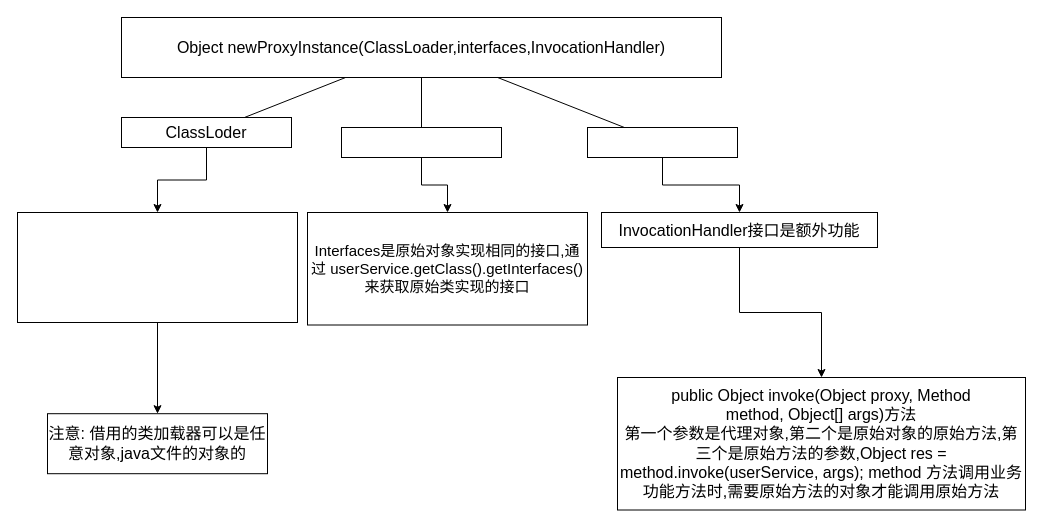
This 1043x528 diagram has some shape labels left out. The shapes that lost their labels are listed below. From the top down, each one's box as (x1, y1, x2, y2) in pixels, then its label:
(340, 126, 502, 158): interfaces
(586, 126, 738, 158): InvocationHandler
(16, 212, 298, 322): ClassLoader是类加载器,而该方法需要类加载器所以借用一个类加载器就可以实现
